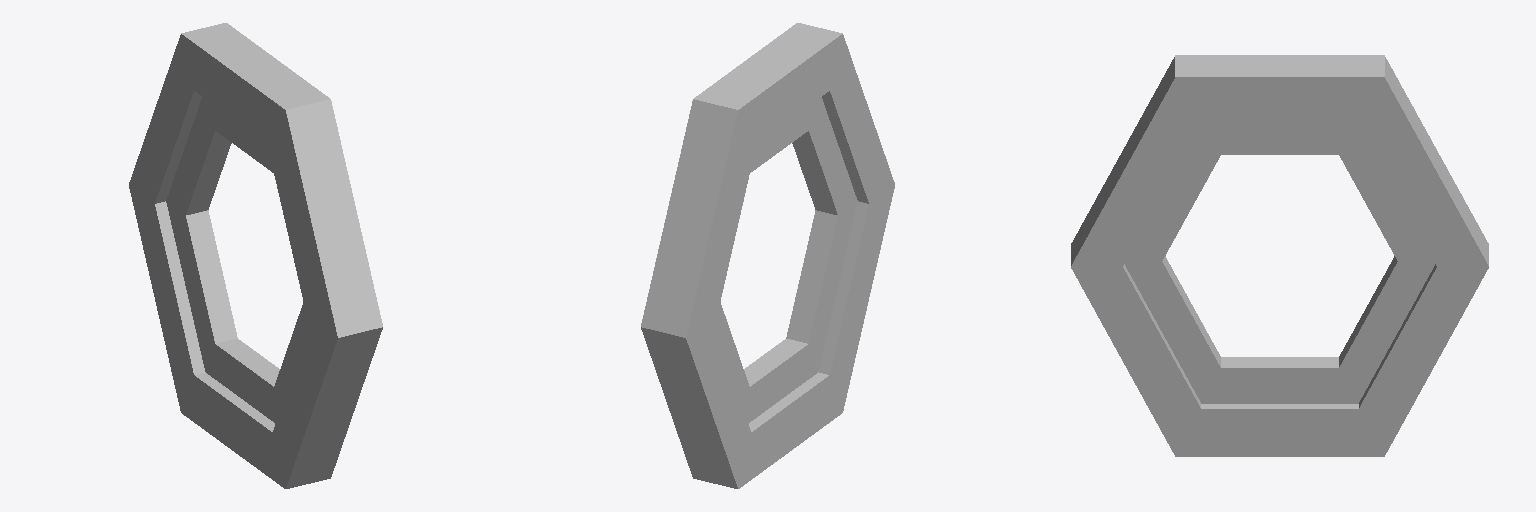
File: humanity_phylactery.obj
The picture shows the model from 3 angles: view 1: azimuth 30°, elevation 25°; view 2: azimuth 150°, elevation 25°; view 3: azimuth 270°, elevation 25°; orthographic projection.
Visible parts, largest first — view 1: Inner_frame_Cube.002, Outer_frame_Cube; view 2: Inner_frame_Cube.002, Outer_frame_Cube; view 3: Inner_frame_Cube.002, Outer_frame_Cube.
Boxes of the visible parts, x1=… form: Inner_frame_Cube.002: x1=129, y1=23, x2=382, y2=488; Outer_frame_Cube: x1=166, y1=97, x2=311, y2=423; Inner_frame_Cube.002: x1=641, y1=23, x2=894, y2=488; Outer_frame_Cube: x1=712, y1=97, x2=857, y2=423; Inner_frame_Cube.002: x1=1071, y1=55, x2=1488, y2=456; Outer_frame_Cube: x1=1125, y1=125, x2=1434, y2=403.
Bounding box in the file's own units: 0.125 × 1 × 1.